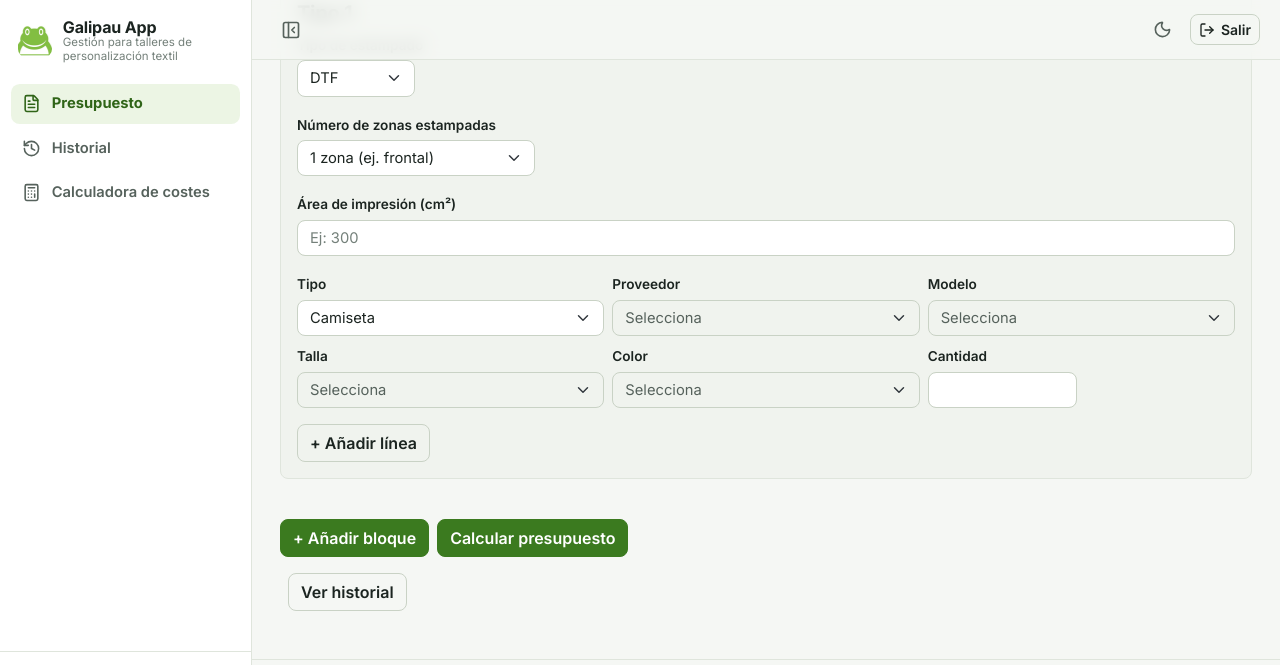
Scenario: App — navegación › navega del formulario al historial y vuelve
This screenshot has width=1280, height=665.
(page scrolled)
Click the link "Ver historial".
click(347, 592)  # box [288,573,407,611]
(page scrolled)
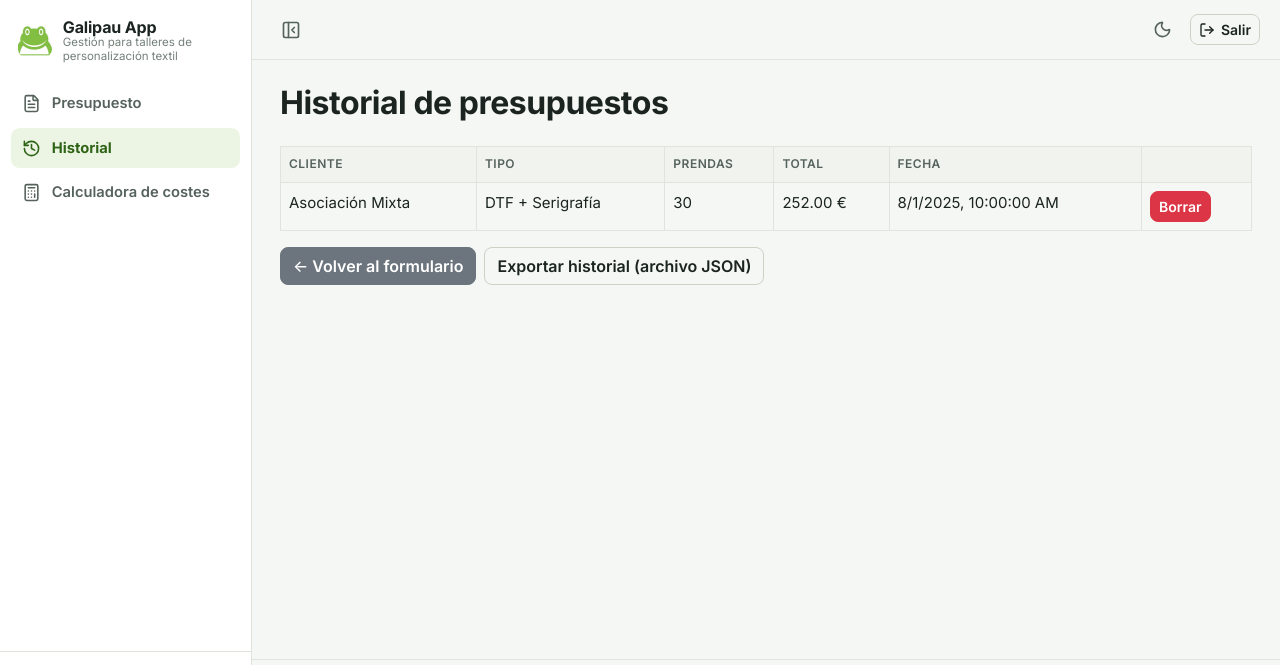
Expected: the heading "Historial de presupuestos" is shown, [280,83,668,122]
Expected: the text "Asociación Mixta" is shown, [280,182,476,230]
Expected: the text "DTF + Serigrafía" is shown, [476,182,665,230]
Click the link "← Volver al formulario".
click(378, 266)  # box [280,247,476,285]
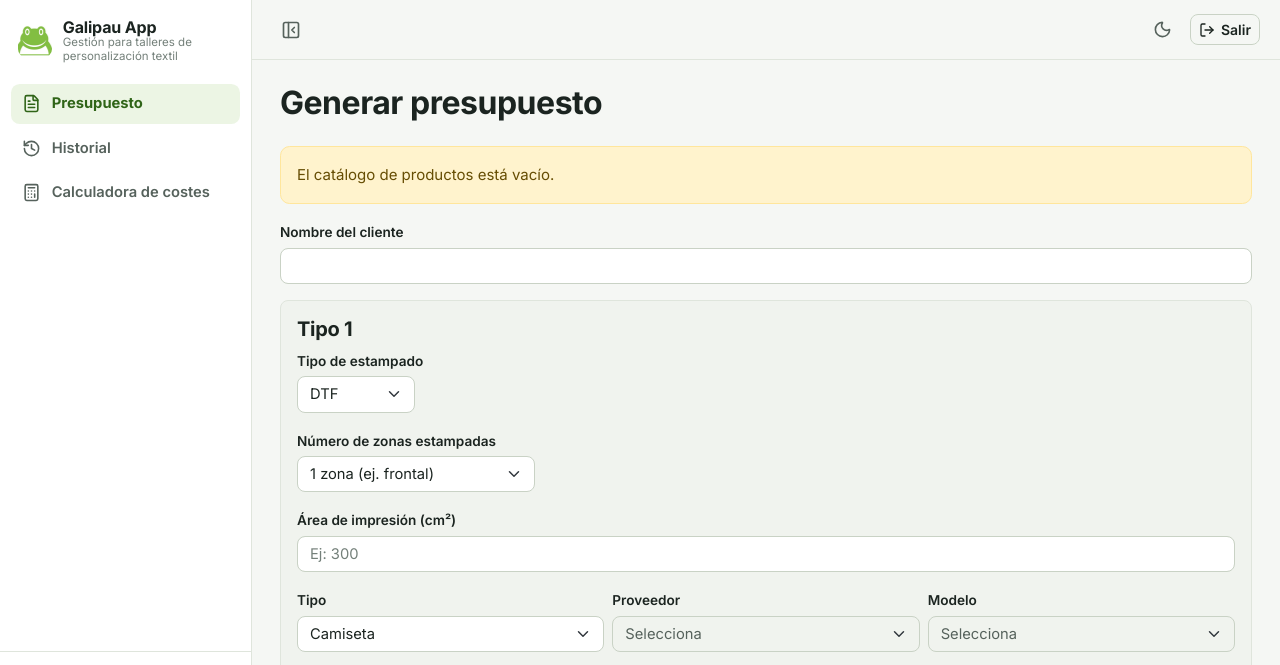
Expected: the heading "Generar presupuesto" is shown, [280,83,602,122]
